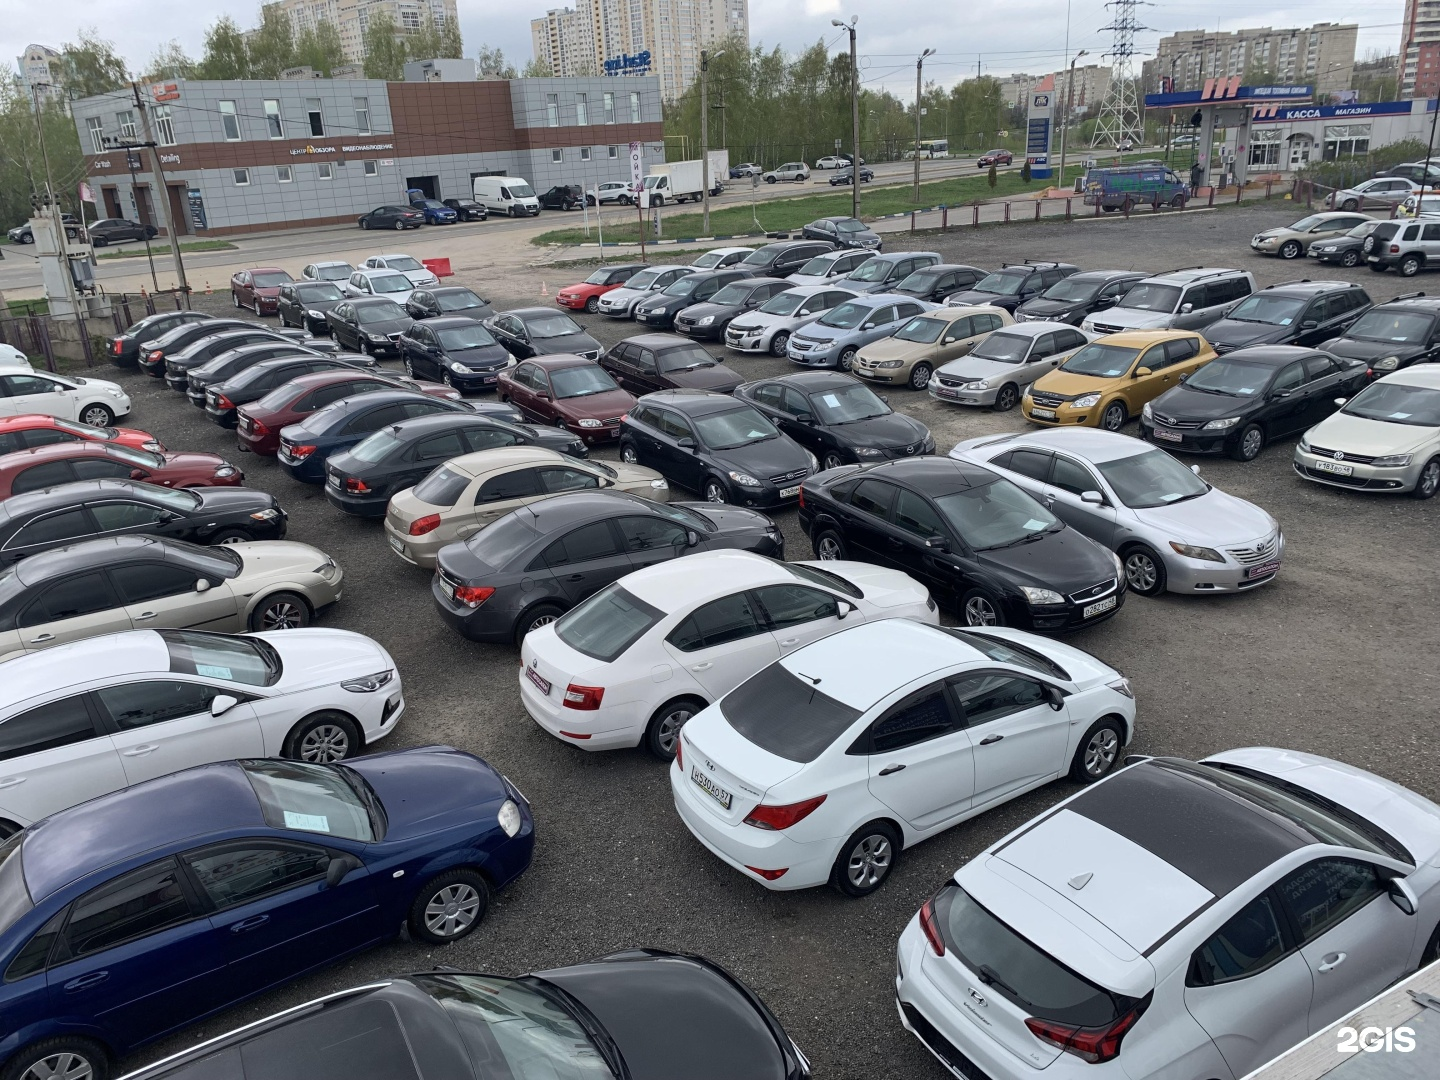Car: (895, 748, 1440, 1078), (0, 746, 534, 1080), (672, 621, 1136, 896), (126, 950, 810, 1080), (519, 548, 939, 760), (0, 628, 404, 841), (798, 455, 1128, 630), (947, 425, 1284, 596), (431, 491, 786, 642), (0, 535, 344, 660), (384, 447, 670, 567), (325, 412, 588, 518), (1140, 345, 1372, 461), (0, 480, 287, 569), (619, 388, 820, 509), (277, 389, 524, 483), (1293, 362, 1440, 499), (1020, 329, 1218, 431), (734, 371, 935, 469), (236, 369, 463, 455), (205, 355, 414, 431), (926, 321, 1096, 410), (0, 442, 243, 501), (853, 305, 1017, 390), (1200, 281, 1375, 356), (186, 341, 376, 410), (786, 294, 952, 371), (1079, 268, 1259, 339), (497, 354, 637, 444), (163, 329, 342, 393), (138, 318, 314, 378), (725, 286, 872, 357), (1315, 294, 1440, 376), (599, 332, 747, 398), (399, 315, 517, 391), (674, 277, 805, 340), (1013, 269, 1153, 327), (0, 366, 132, 427), (634, 268, 756, 327), (942, 262, 1082, 313), (483, 307, 604, 363), (0, 415, 166, 455), (105, 311, 219, 369), (1251, 212, 1380, 259), (598, 264, 700, 319), (327, 296, 416, 356), (1084, 164, 1191, 212), (554, 264, 652, 312), (833, 252, 943, 294), (726, 239, 840, 279), (1363, 219, 1440, 277), (883, 263, 991, 304), (633, 159, 715, 209), (1308, 219, 1395, 267), (276, 281, 347, 334), (1323, 177, 1432, 211), (405, 285, 498, 324), (785, 248, 882, 286), (231, 267, 296, 317), (346, 268, 416, 311), (802, 216, 883, 251), (473, 176, 541, 218), (356, 254, 439, 288), (8, 212, 79, 244), (87, 218, 159, 246), (300, 261, 356, 297), (405, 189, 458, 225), (357, 204, 426, 230), (1375, 163, 1440, 189), (689, 247, 756, 271), (537, 185, 588, 211), (1395, 191, 1440, 218), (586, 182, 635, 205), (442, 197, 489, 221), (763, 162, 811, 184), (829, 166, 874, 186), (0, 343, 34, 370), (904, 140, 948, 159), (977, 149, 1013, 168), (815, 155, 850, 170), (734, 162, 762, 177), (1164, 135, 1200, 146), (838, 153, 865, 166), (1416, 158, 1440, 169), (710, 178, 725, 196), (1117, 140, 1134, 152), (729, 167, 744, 179)
